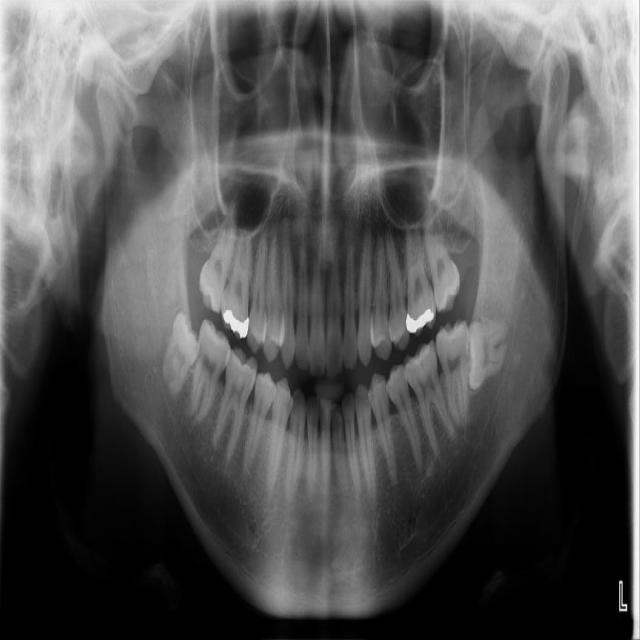52: (405, 282, 438, 338), (219, 285, 251, 340)
73: (603, 598, 612, 610)
BioHorizons Implant: (416, 192, 465, 315)
Biomet 3i Implant: (464, 319, 508, 392)
Blue Sky Bio Implant: (436, 319, 470, 425)
Caries: (194, 205, 242, 314)
Implant: (183, 318, 235, 430)
Keystone Dental Implant: (156, 310, 209, 395)
